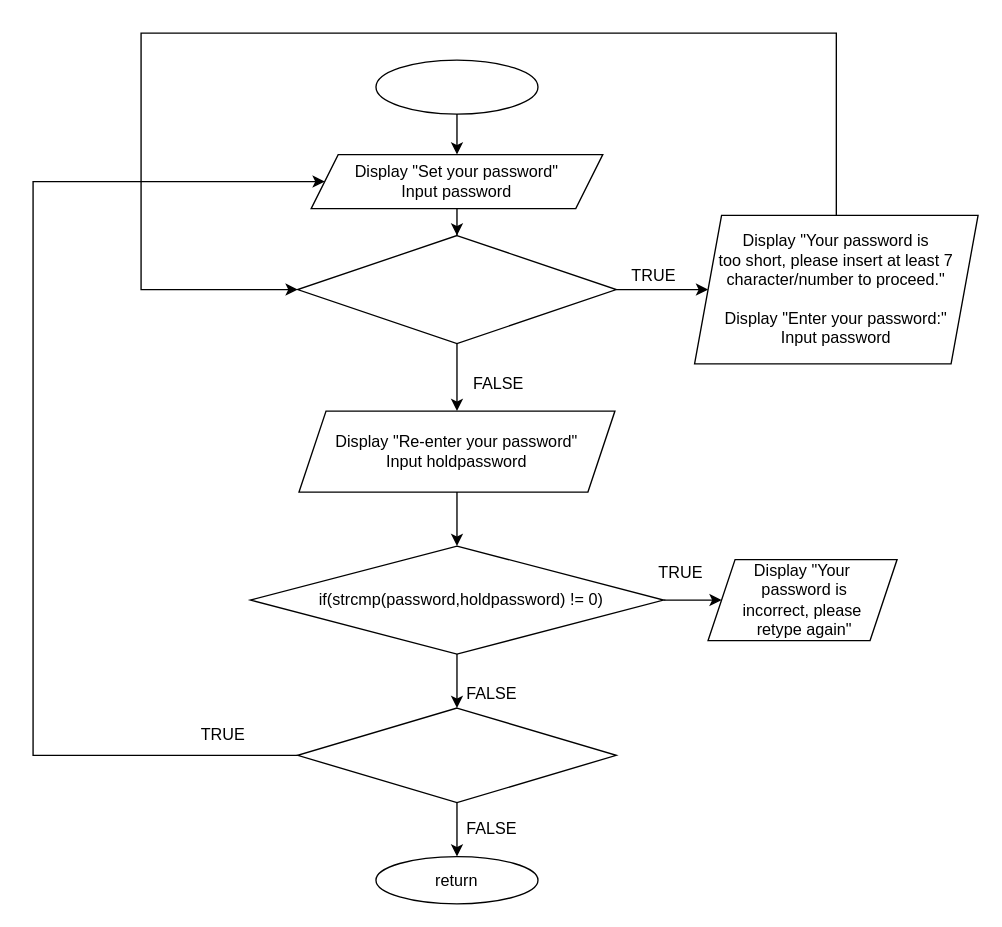
The diagram is 1002 pixels wide and 927 high, and some of its shapes have lost their labels. The shapes that lost their labels are listed below. From the top down, each one's box as (x1, y1, x2, y2) in pixels, then its label:
(375, 59, 538, 114): void setpassword()
(296, 234, 616, 344): while(strlen(password)<7)
(296, 707, 616, 803): while(strcmp (password,holdpassword) != 0)
